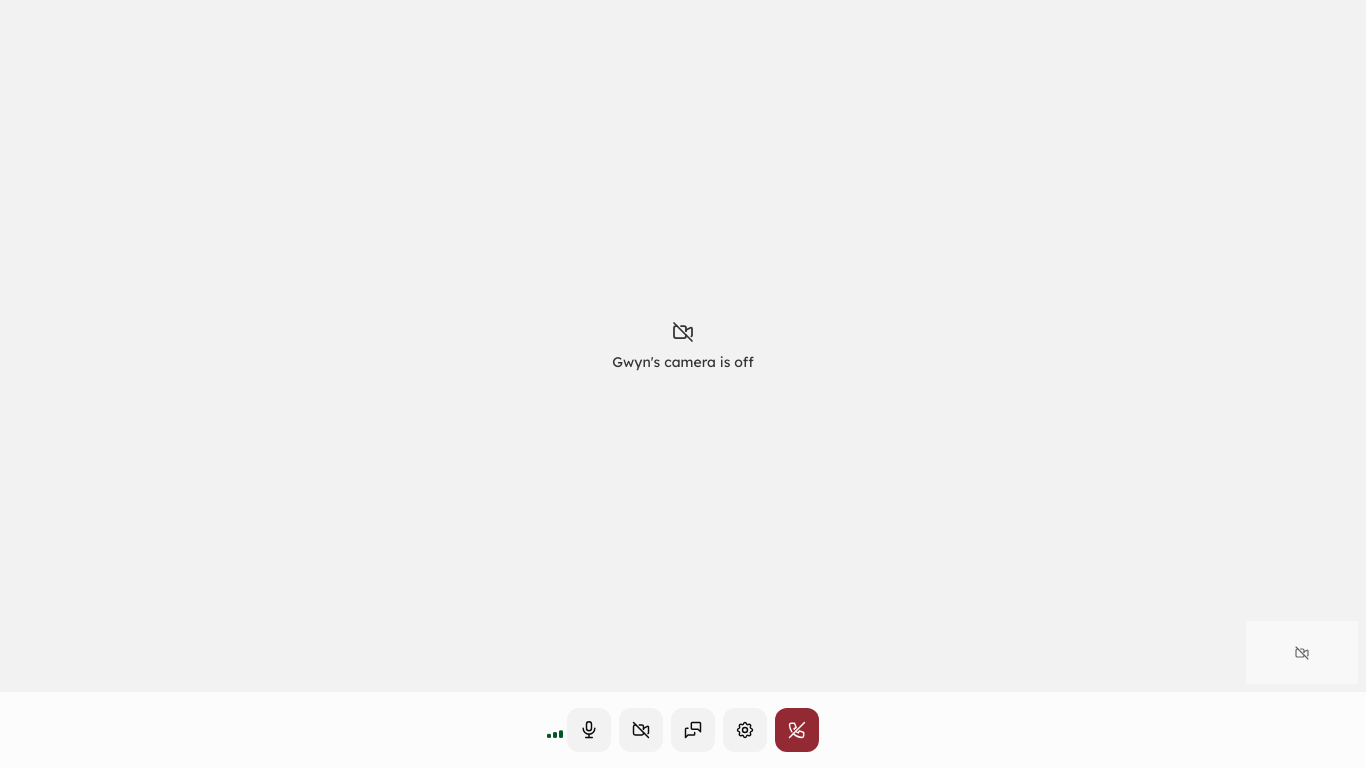
Test: CallScreen › toggles the existing conversation in place with the messages icon
Click the button named "Open chat".
click(693, 730)  # box [671, 708, 715, 752]
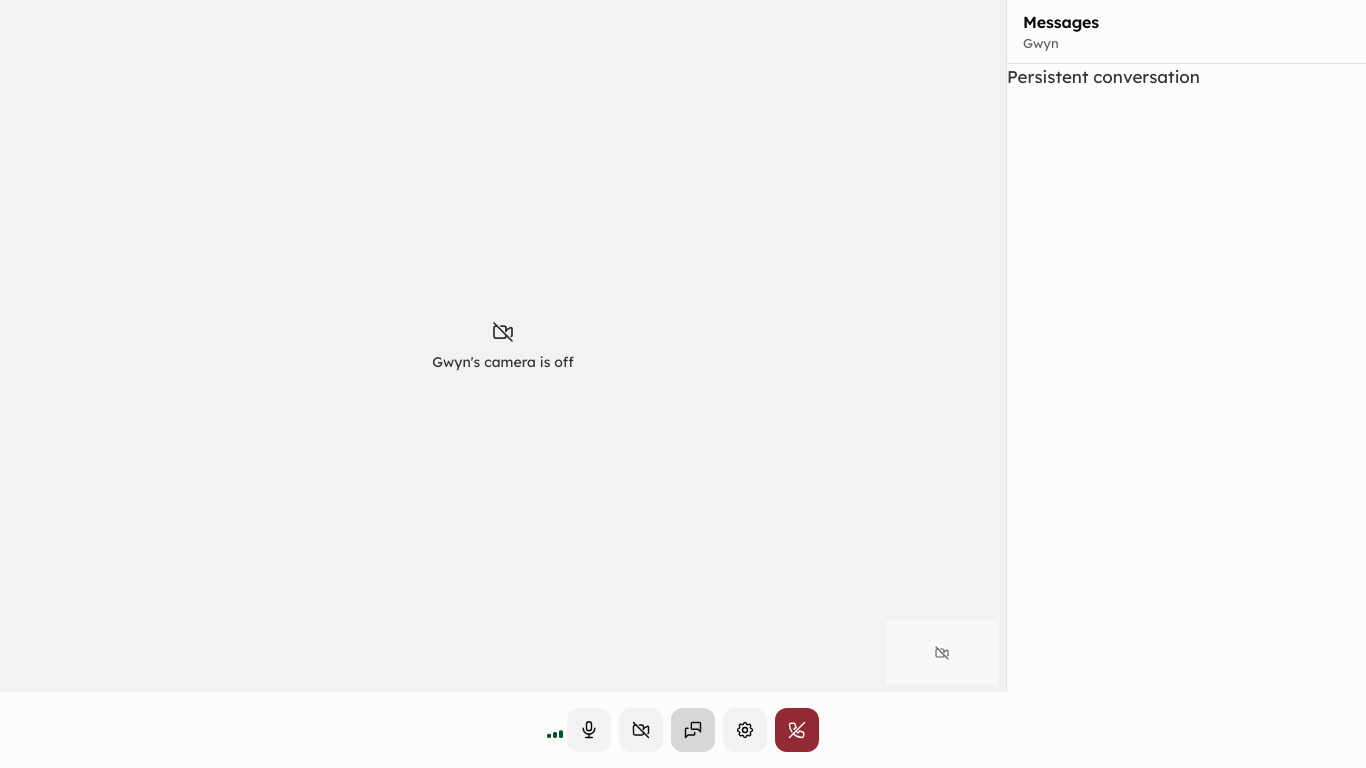
Result: the button named "Close chat" is expanded at [671, 708, 715, 752]
Result: the text "Persistent conversation" is shown at [1007, 66, 1200, 87]
